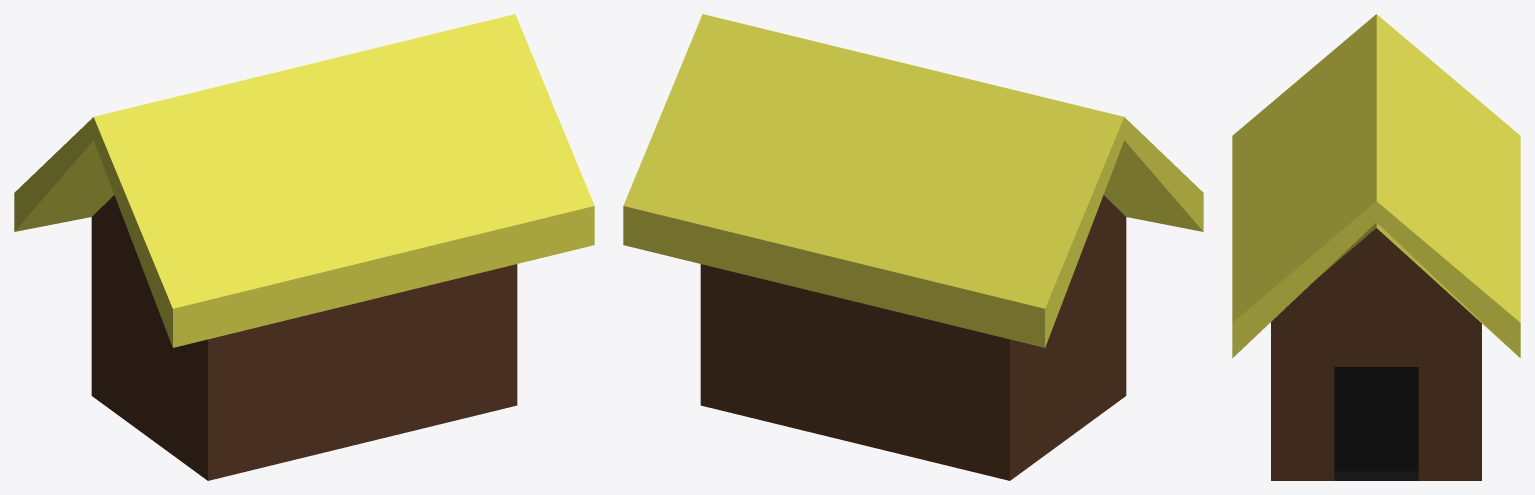
Rendered from Building_1.fbx.
The picture shows the model from 3 angles, left to right: view 1: azimuth 30°, elevation 25°; view 2: azimuth 150°, elevation 25°; view 3: azimuth 270°, elevation 25°; orthographic projection. The views are drawn at different scales.
Visible parts, largest first — view 1: Cube; view 2: Cube; view 3: Cube.
Part boxes in pixels (x1,y1,x2,y2): Cube: (14,14,594,480); Cube: (623,14,1203,480); Cube: (1232,14,1520,480).
Size of the model in its own units: 53.98 by 41 by 35.13.
